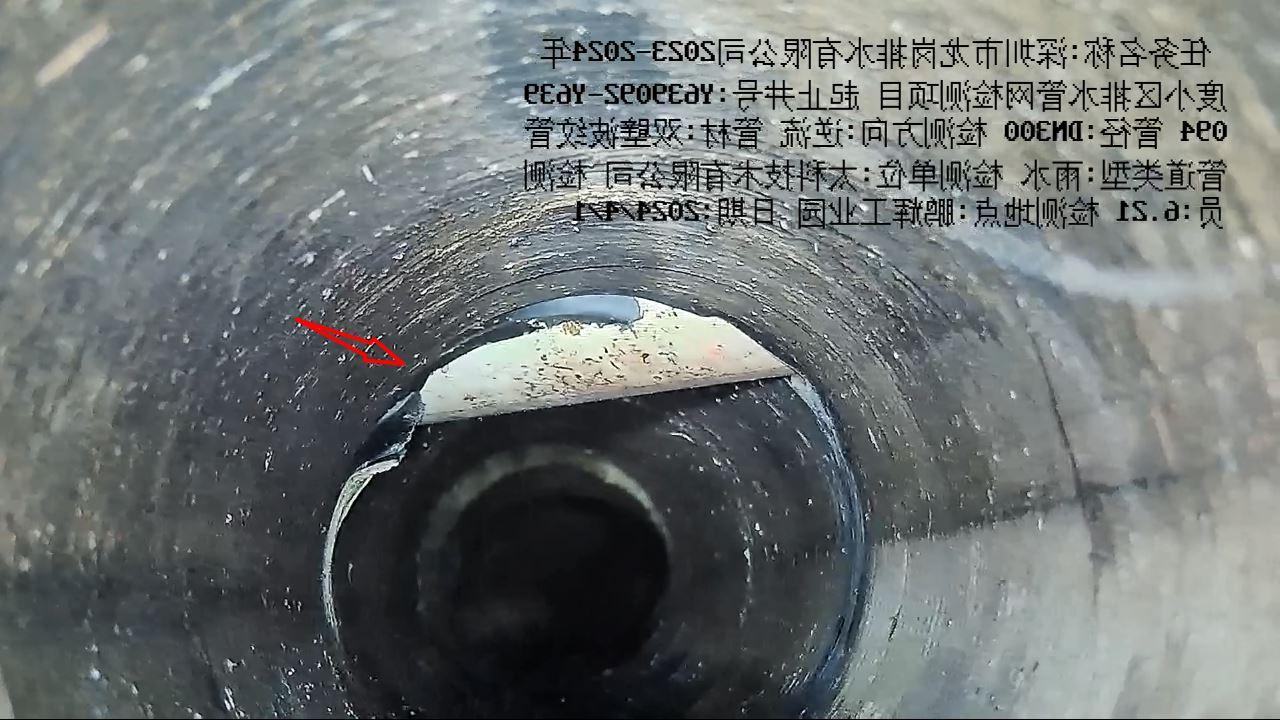YWCR: (412, 295, 794, 423)
